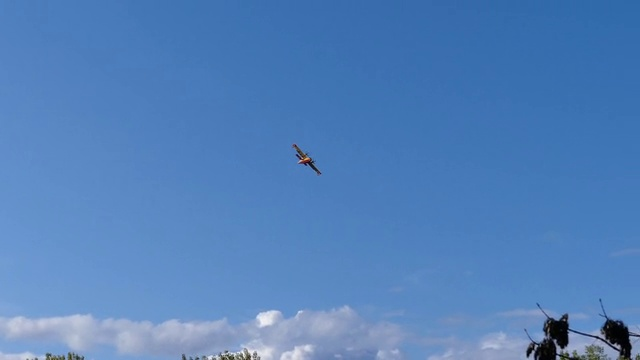plane: (292, 142, 324, 176)
